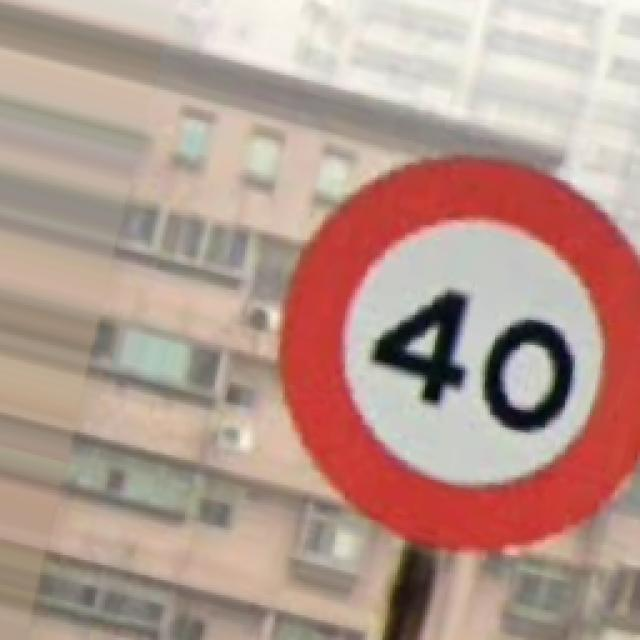Speed Limit -40-: (280, 158, 638, 548)
